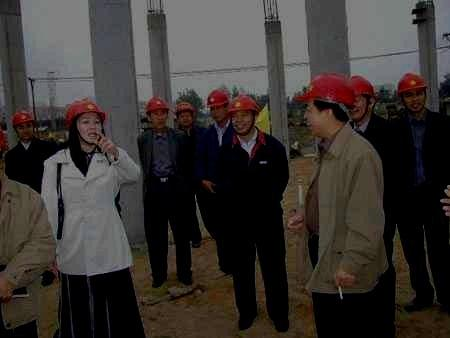helmet: (294, 71, 355, 137), (64, 97, 108, 146), (226, 93, 260, 134), (397, 72, 429, 112), (349, 75, 378, 119), (144, 96, 170, 129), (205, 89, 230, 122), (12, 109, 36, 139), (174, 102, 195, 127), (1, 128, 10, 177)
